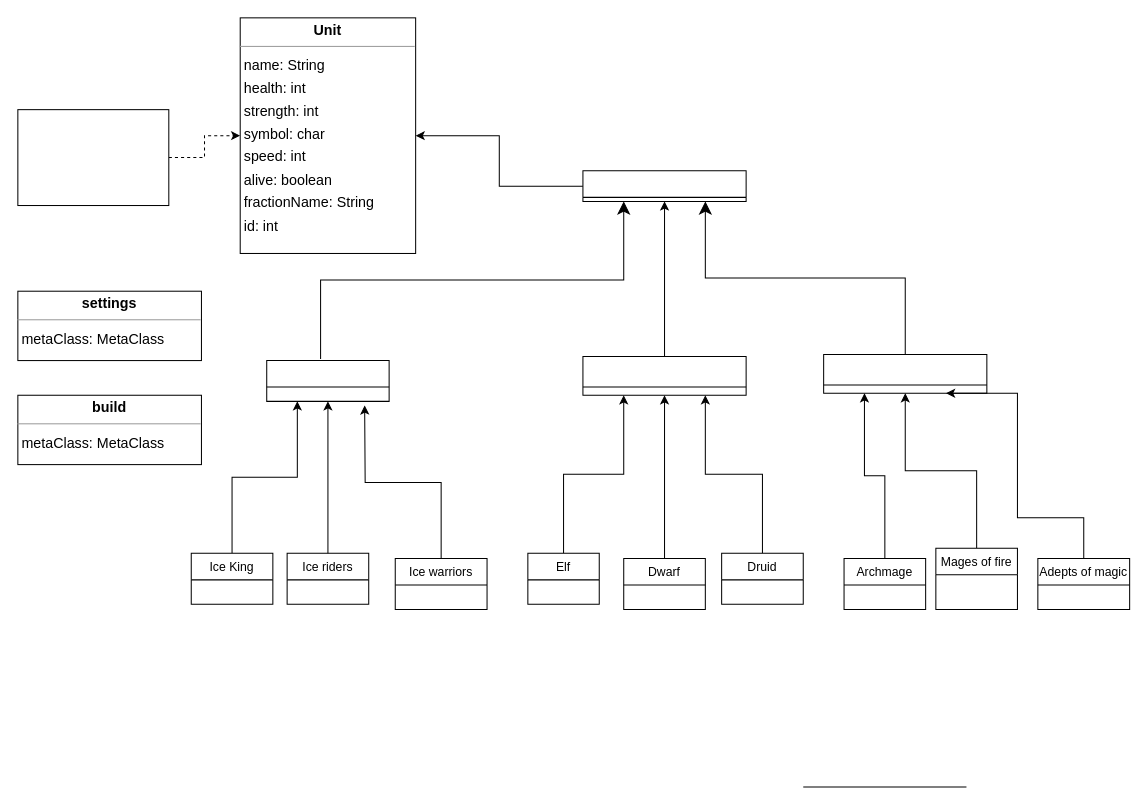
Image size: 1148x809. Some labels were removed from this diagram. The shapes that lost their labels are listed below. From the top down, each one's centre as x and y in pixels, then its label:
(93,157): Fraction name: String units: List<Unit>
(664,185): Fractions
(327,380): Army of ice
(664,375): Forest guards
(905,373): Brotherhood of magicians
